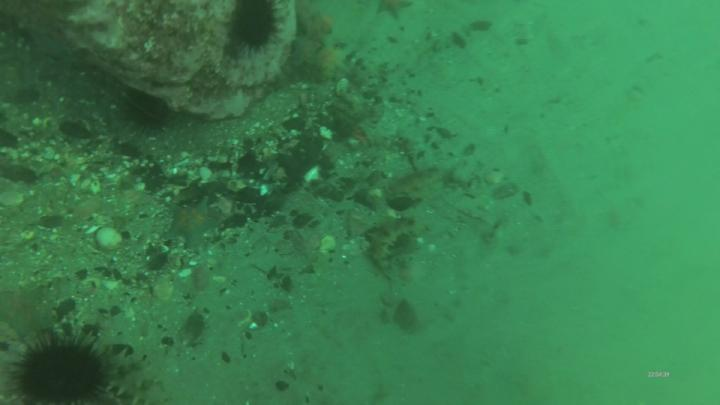echinus: (20, 342, 108, 404), (234, 3, 276, 49), (125, 97, 169, 130)
holothurian: (370, 220, 423, 272), (388, 168, 448, 194)
scallop: (96, 226, 120, 251)
starfish: (163, 200, 220, 246)
